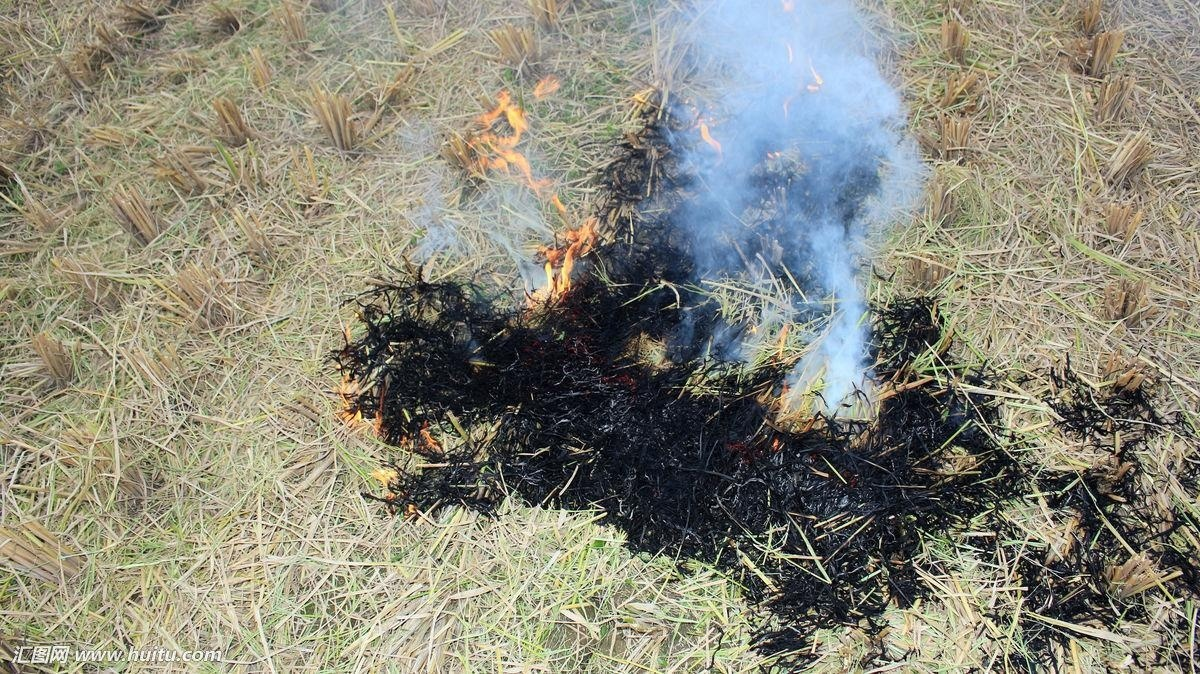fire: (462, 91, 603, 304), (332, 365, 443, 473), (692, 109, 725, 156)
